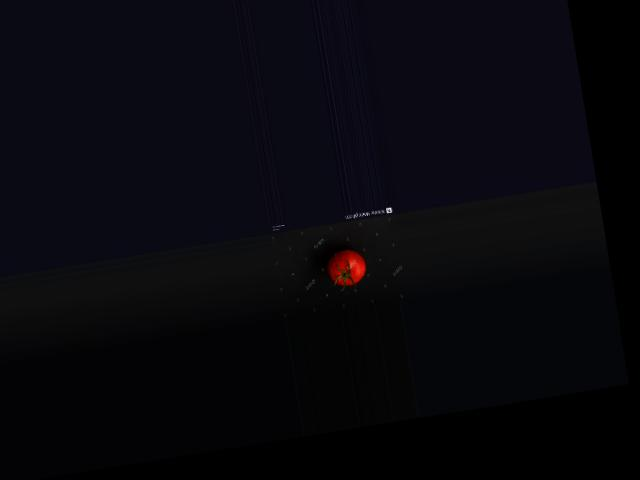tomato: (324, 247, 368, 288)
